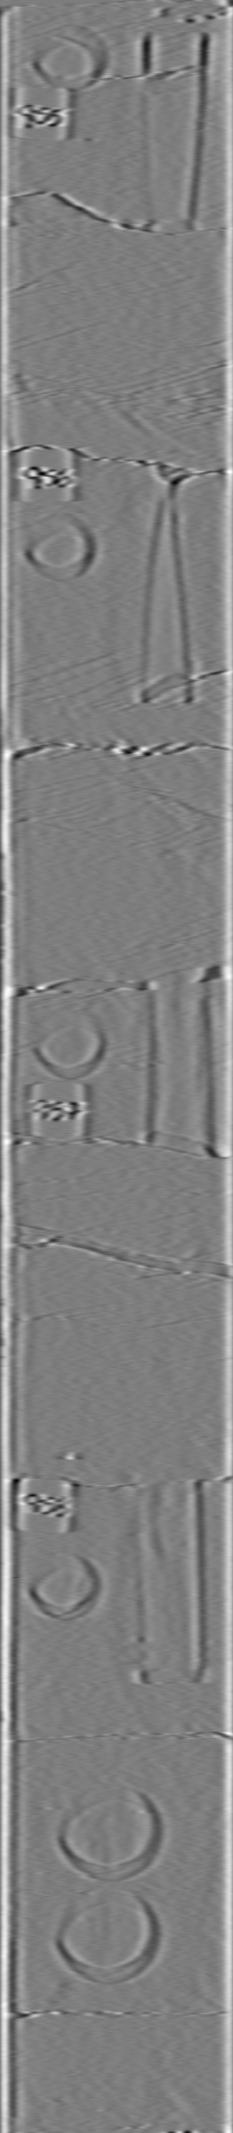hplug: (25, 1543, 106, 1623), (26, 1007, 113, 1080), (26, 20, 113, 93), (16, 509, 97, 584)
scal: (50, 1885, 170, 1992), (53, 1781, 164, 1883)
vplug: (123, 1469, 208, 1692), (135, 20, 213, 238), (134, 469, 202, 716), (135, 967, 217, 1163)
